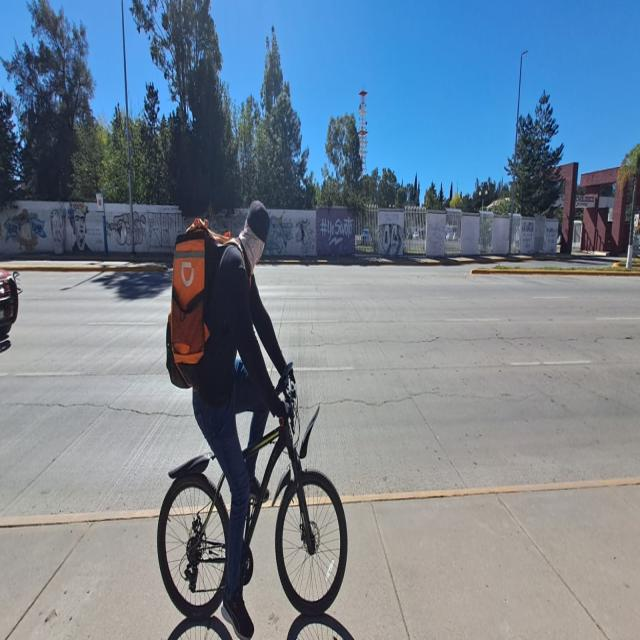Auto: (0, 248, 19, 357)
